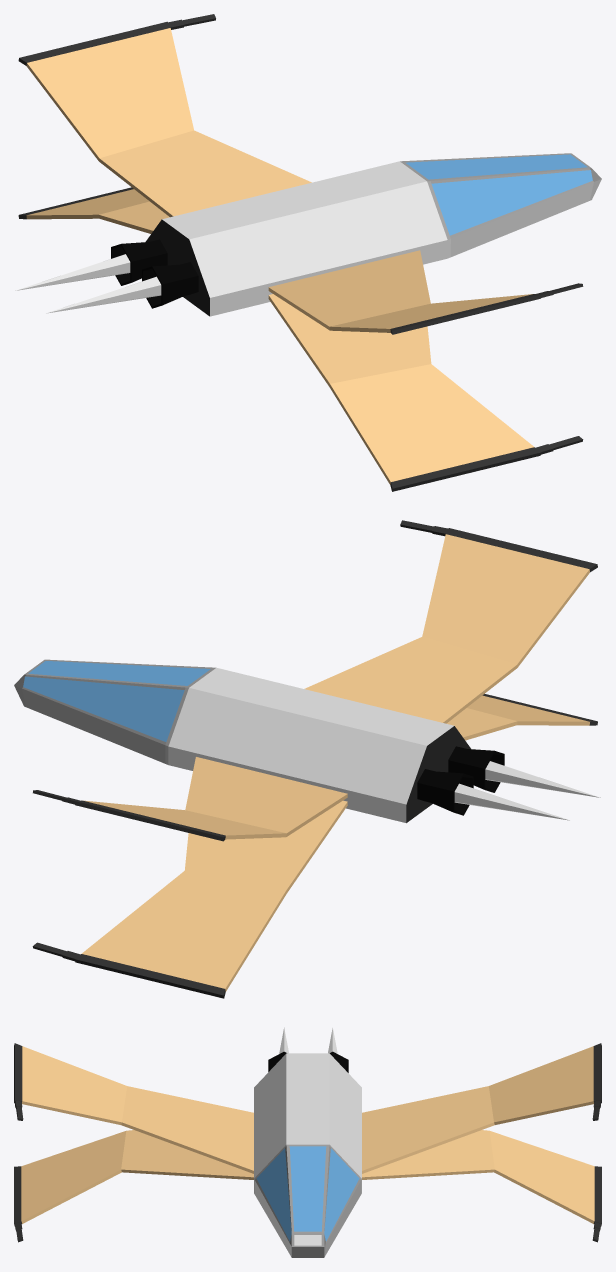
The model's file is Player.fbx.
3 renders of one model, top to bottom at view 1: azimuth 30°, elevation 25°; view 2: azimuth 150°, elevation 25°; view 3: azimuth 270°, elevation 25°, orthographic. The views are drawn at different scales.
Visible parts, largest first — view 1: ship; view 2: ship; view 3: ship.
Boxes of the visible parts, bbox=[...] form: ship: bbox=[15, 14, 601, 491]; ship: bbox=[14, 520, 600, 998]; ship: bbox=[14, 1027, 601, 1257].
Size of the model in its own units: 945 by 259 by 1090.
